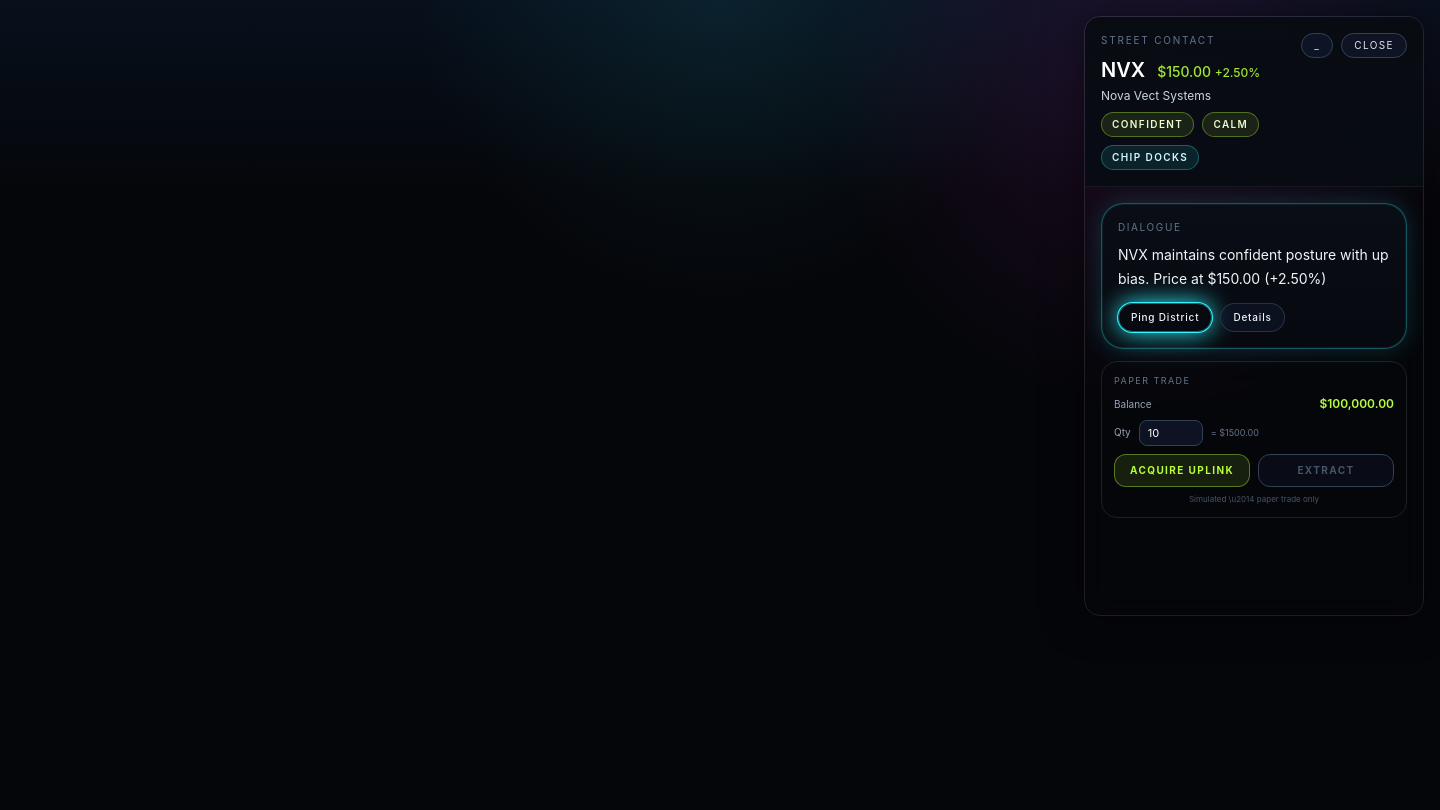
Test: RightPanel › clicking Details shows tabs
What coordinates should you click on to do the following:
click the button "Details"
I would click on:
 (1253, 318)
Its box is [1220,303,1285,332].
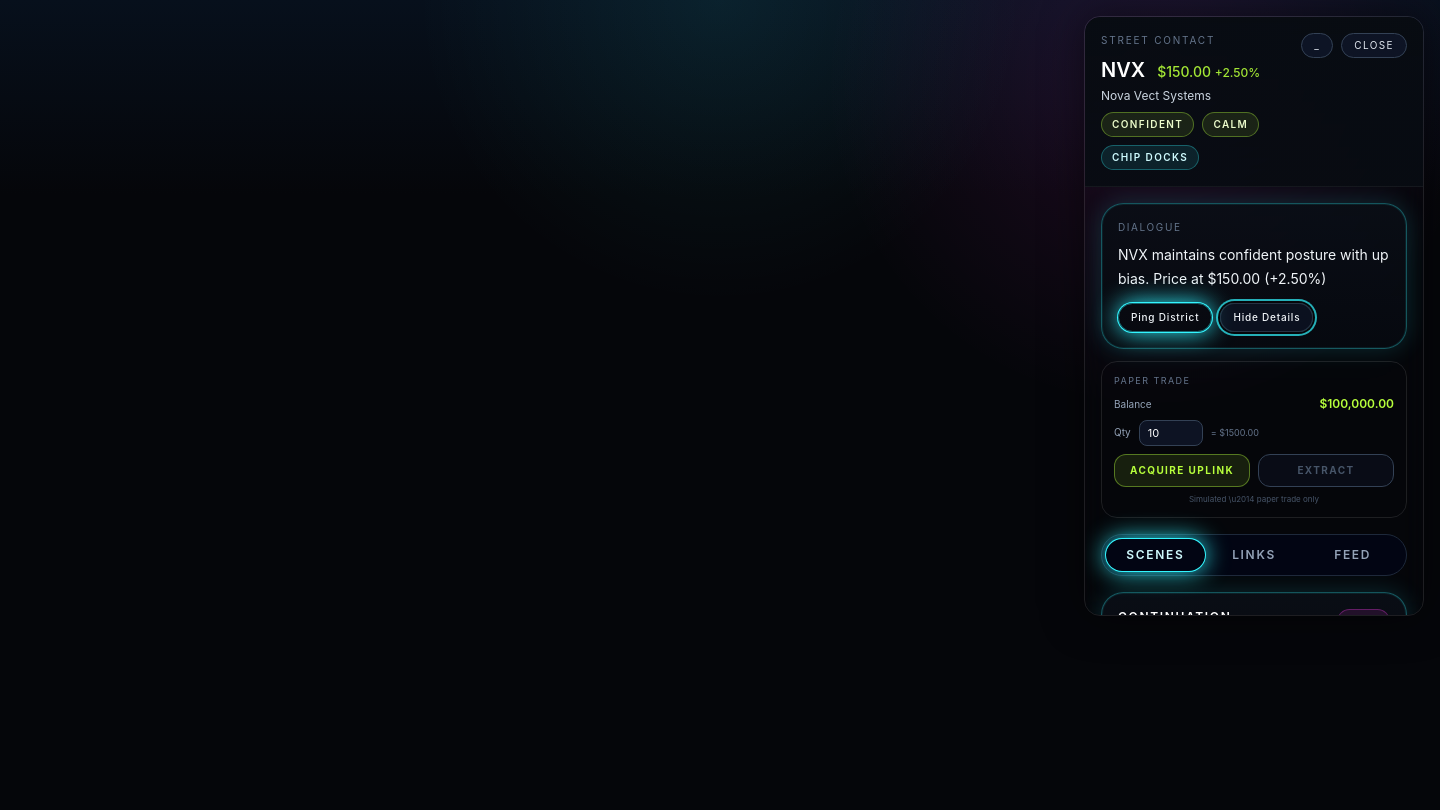
Now the tab "Scenes" is shown, box [1106,539,1205,571]
Now the tab "Links" is shown, box [1205,539,1303,571]
Now the tab "Feed" is shown, box [1303,539,1402,571]
